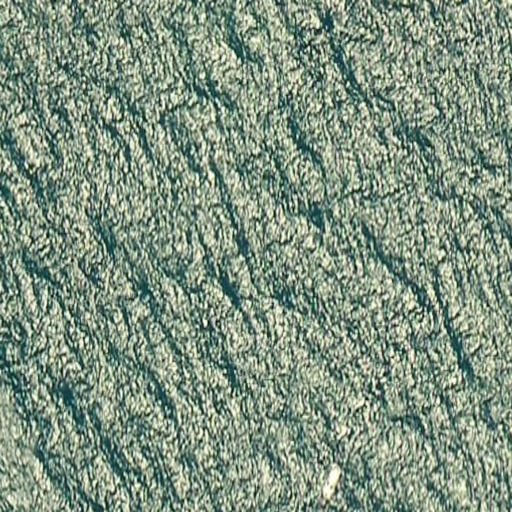ship: (318, 462, 345, 502)
